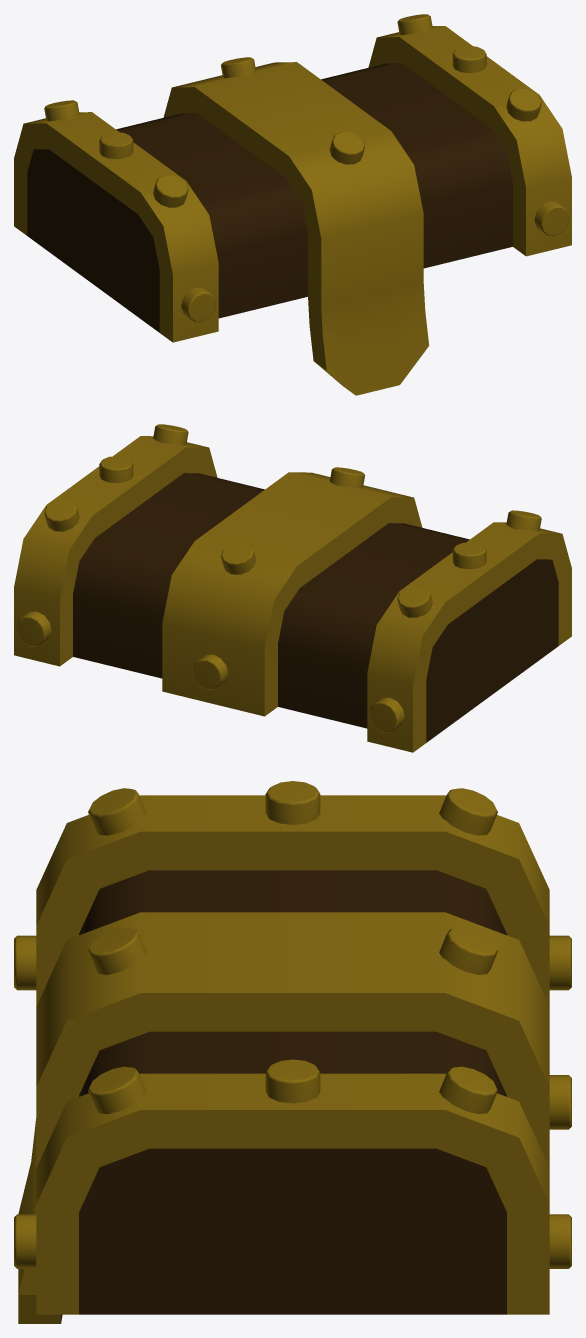
Rendered from chest_soot_lid.fbx.
3 views of the same model, one above another, from view 1: azimuth 30°, elevation 25°; view 2: azimuth 150°, elevation 25°; view 3: azimuth 270°, elevation 25° (orthographic). The views are drawn at different scales.
Parts seen in each view (by area): view 1: chest_soot_lid; view 2: chest_soot_lid; view 3: chest_soot_lid.
Part boxes in pixels (x1,y1,x2,y2): chest_soot_lid: (14,14,571,395); chest_soot_lid: (14,424,571,752); chest_soot_lid: (14,781,571,1323).
Size of the model in its own units: 106 by 59.2 by 79.55.
